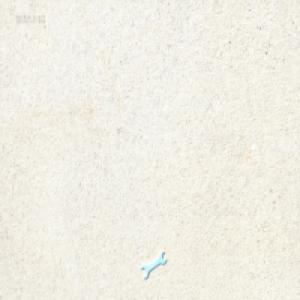Wrench: (139, 249, 163, 277)
